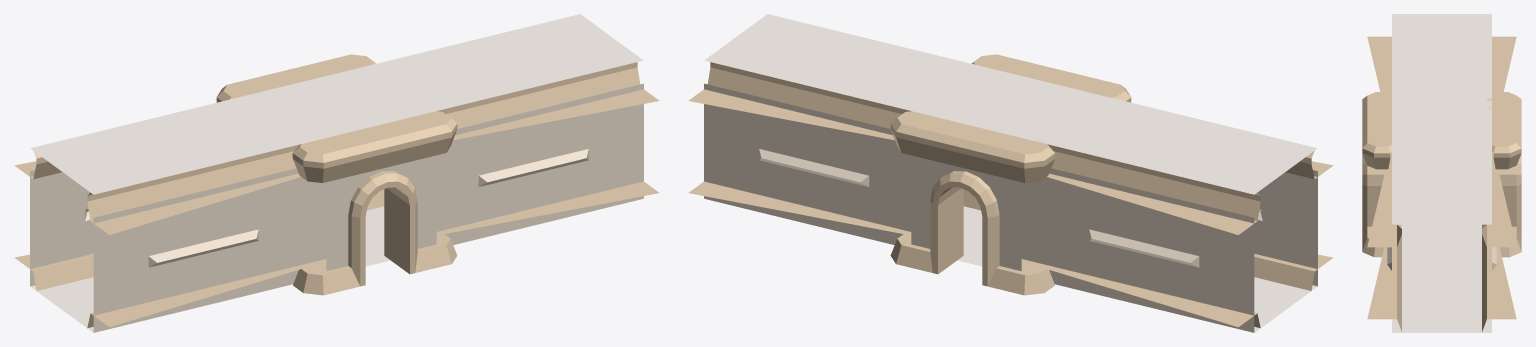
Rendered from LibraryCorridor.glb.
The picture shows the model from 3 angles, left to right: view 1: azimuth 30°, elevation 25°; view 2: azimuth 150°, elevation 25°; view 3: azimuth 270°, elevation 25°; orthographic projection. The views are drawn at different scales.
Parts seen in each view (by area): view 1: object1.019, object1.004, object1.005, object1.018, object1.017, object1.027, object1.023, object2.002, object1.003, object1.014, object1.020, object1.002 (+8 smaller); view 2: object1.019, object1.013, object1.014, object1.016, object1.015, object1.024, object1.028, object2.001, object1, object1.005, object1.021, object1.002 (+8 smaller); view 3: object1.019, object1.002, object1.008, object1.009, object1.023, object1.028, object1.021, object1.020, object2.001, object2.002, object1.024, object1.027 (+6 smaller).
Boxes of the visible parts, bbox=[...] form: object1.019: bbox=[30, 14, 643, 194]; object1.004: bbox=[203, 168, 313, 305]; object1.005: bbox=[93, 191, 206, 332]; object1.018: bbox=[534, 83, 643, 225]; object1.017: bbox=[436, 110, 536, 244]; object1.027: bbox=[87, 144, 300, 234]; object1.023: bbox=[436, 62, 659, 140]; object2.002: bbox=[314, 171, 442, 292]; object1.003: bbox=[313, 155, 436, 271]; object1.014: bbox=[30, 170, 93, 286]; object1.020: bbox=[314, 114, 442, 181]; object1.002: bbox=[30, 206, 390, 332]; object1.019: bbox=[704, 14, 1317, 194]; object1.013: bbox=[1034, 168, 1144, 305]; object1.014: bbox=[1141, 191, 1254, 332]; object1.016: bbox=[704, 83, 813, 225]; object1.015: bbox=[811, 110, 911, 244]; object1.024: bbox=[1047, 144, 1260, 234]; object1.028: bbox=[688, 62, 911, 140]; object2.001: bbox=[905, 171, 1033, 292]; object1: bbox=[911, 155, 1034, 271]; object1.005: bbox=[1254, 170, 1317, 286]; object1.021: bbox=[905, 114, 1034, 181]; object1.002: bbox=[957, 206, 1317, 332]; object1.019: bbox=[1392, 14, 1491, 224]; object1.002: bbox=[1392, 224, 1491, 332]; object1.008: bbox=[1482, 241, 1516, 331]; object1.009: bbox=[1367, 241, 1401, 331]; object1.023: bbox=[1367, 163, 1401, 247]; object1.028: bbox=[1482, 163, 1516, 247]; object1.021: bbox=[1487, 98, 1521, 162]; object1.020: bbox=[1362, 98, 1391, 162]; object2.001: bbox=[1482, 153, 1521, 247]; object2.002: bbox=[1362, 153, 1401, 247]; object1.024: bbox=[1492, 36, 1516, 93]; object1.027: bbox=[1367, 36, 1391, 93].
Size of the model in its own units: 5 by 1.2 by 1.6.
